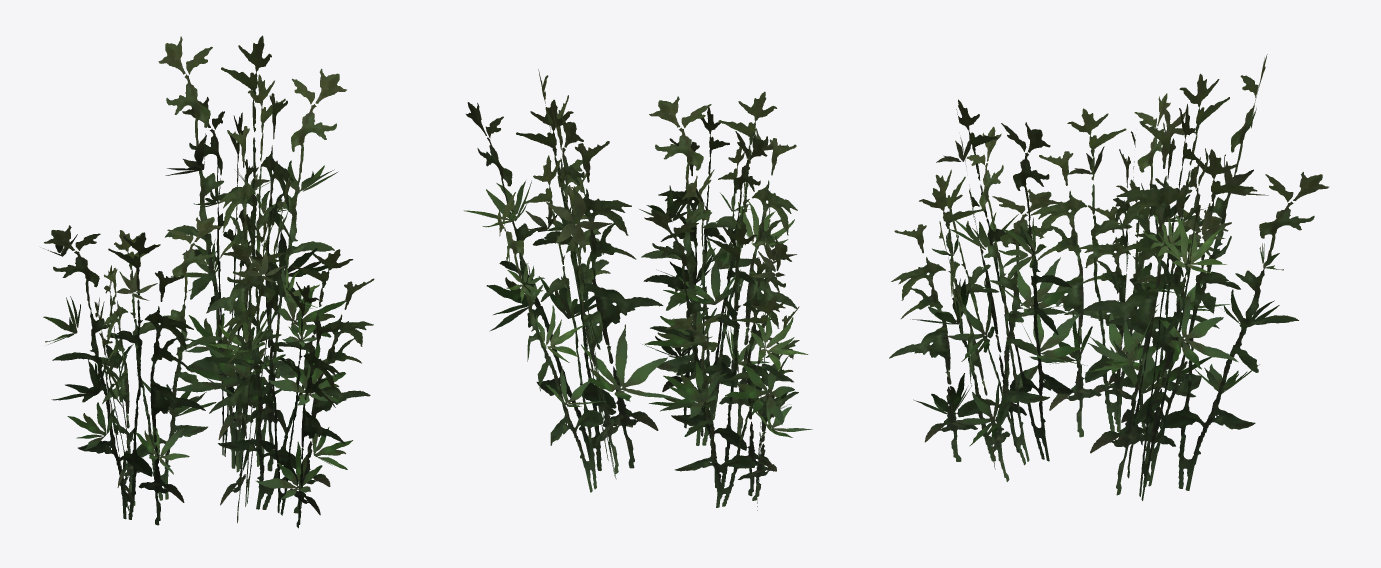
Rendered from Grass1.fbx.
The picture shows the model from 3 angles, left to right: view 1: azimuth 30°, elevation 25°; view 2: azimuth 150°, elevation 25°; view 3: azimuth 270°, elevation 25°; orthographic projection. The views are drawn at different scales.
Parts seen in each view (by area): view 1: SM_d_114_Grass_03a.001; view 2: SM_d_114_Grass_03a.001; view 3: SM_d_114_Grass_03a.001.
Part boxes in pixels (left/top/right/bottom): SM_d_114_Grass_03a.001: left=43, top=35, right=374, bottom=528; SM_d_114_Grass_03a.001: left=463, top=69, right=812, bottom=510; SM_d_114_Grass_03a.001: left=889, top=54, right=1329, bottom=500.
Size of the model in its own units: 0.8241 by 0.9697 by 0.9238.
